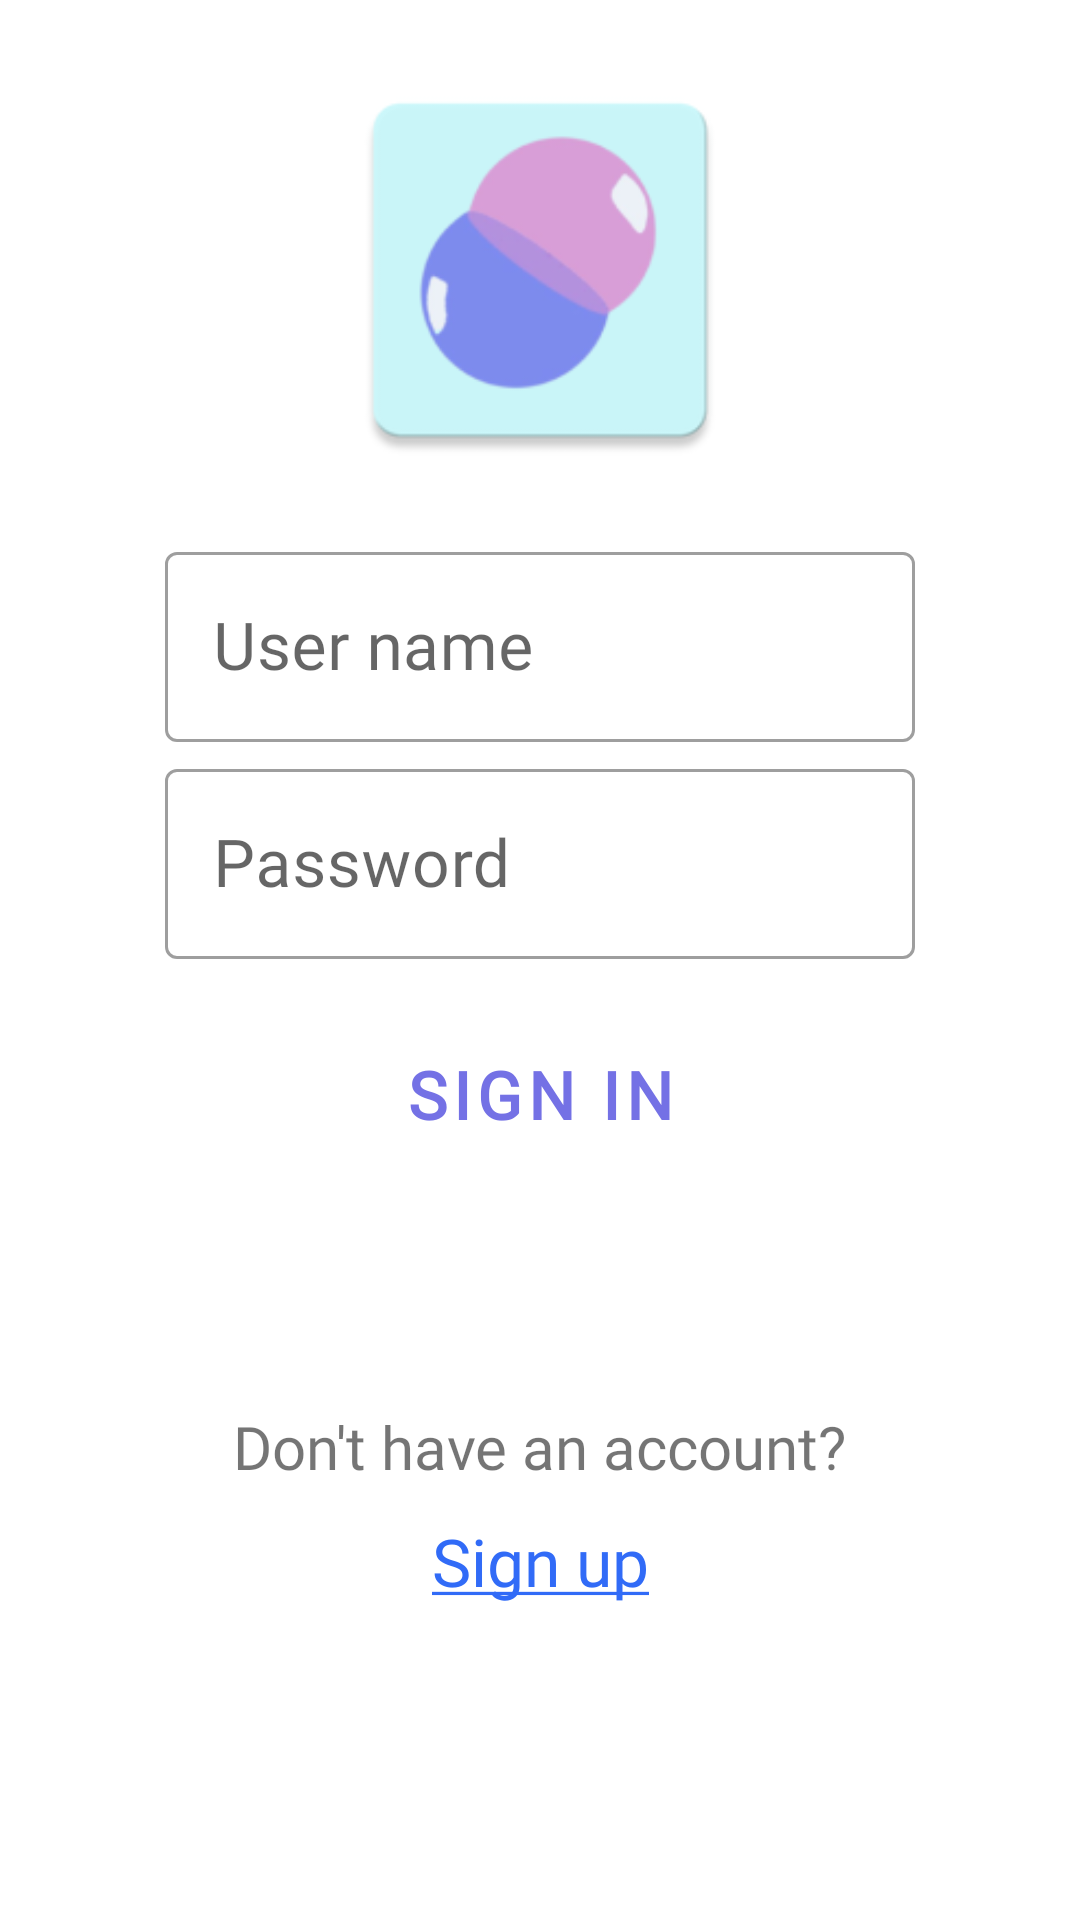

Icons on this 1080w x 1920h Android screen, each with the point to tap as (x=x, y=y):
app: (x=540, y=275)
